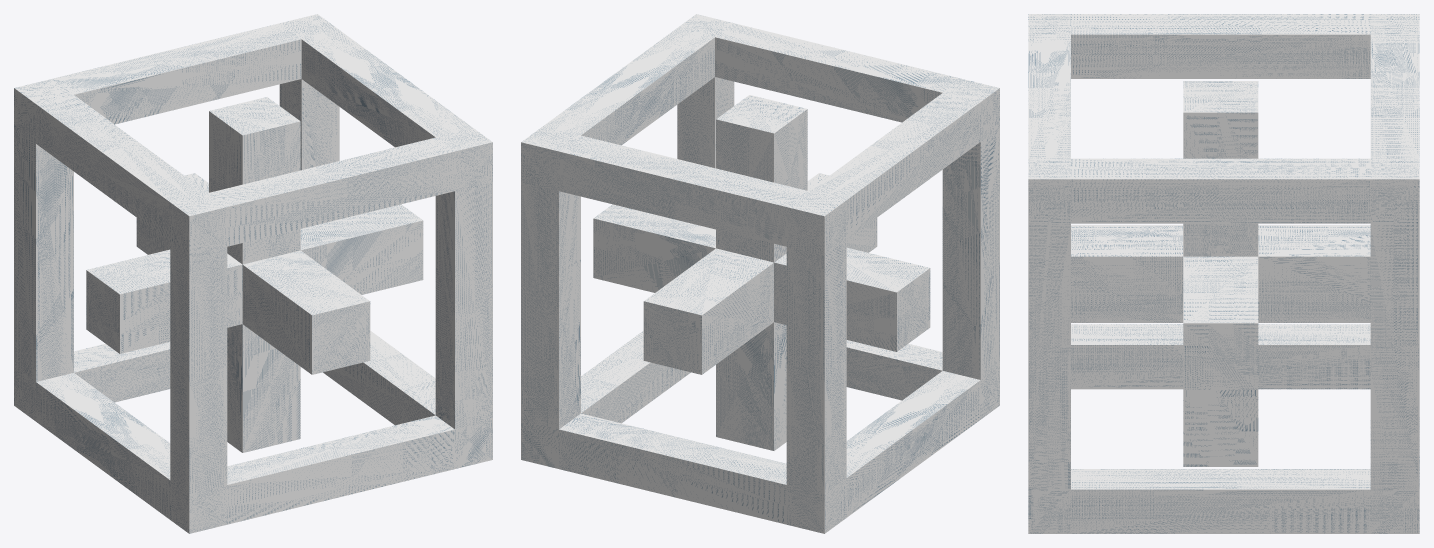
Rendered from cubeFull.fbx.
3 views of the same model, side by side, from view 1: azimuth 30°, elevation 25°; view 2: azimuth 150°, elevation 25°; view 3: azimuth 270°, elevation 25° (orthographic). The views are drawn at different scales.
Visible parts, largest first — view 1: Model; view 2: Model; view 3: Model.
Part boxes in pixels (left/top/right/bottom): Model: left=14, top=14, right=492, bottom=533; Model: left=521, top=14, right=999, bottom=533; Model: left=1028, top=14, right=1419, bottom=533.
Bounding box in the file's own units: 8.24 × 8.24 × 8.24.
